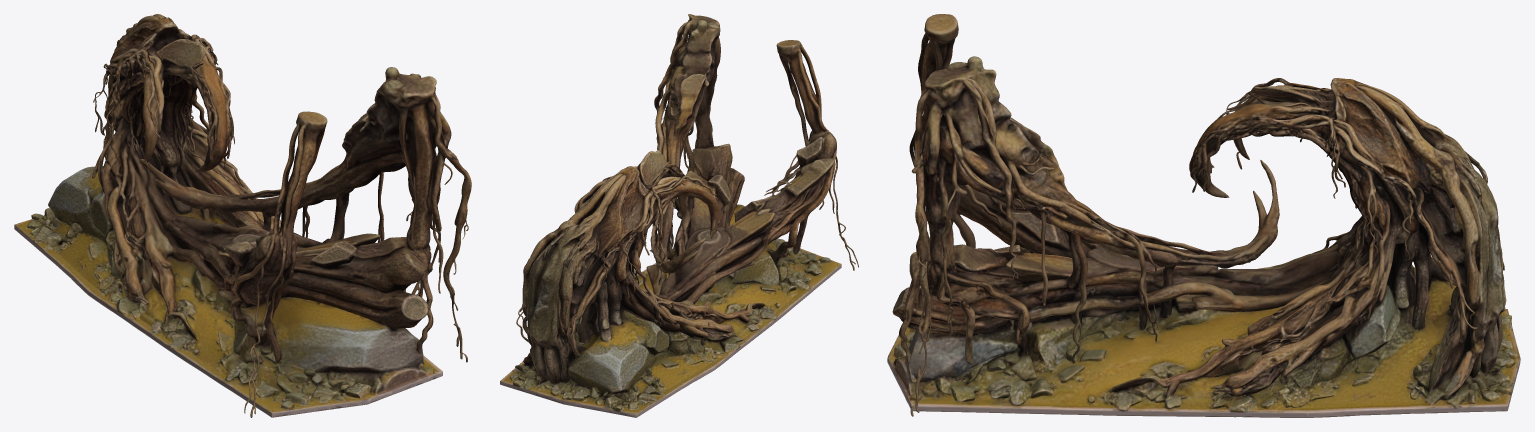
File: hemnui2-v2.glb
3 renders of one model, left to right at view 1: azimuth 30°, elevation 25°; view 2: azimuth 150°, elevation 25°; view 3: azimuth 270°, elevation 25°, orthographic. The views are drawn at different scales.
Visible parts, largest first — view 1: tripo_node_65814846-565c-4be5-805d-95dbef846e1b; view 2: tripo_node_65814846-565c-4be5-805d-95dbef846e1b; view 3: tripo_node_65814846-565c-4be5-805d-95dbef846e1b.
Part boxes in pixels (x1,y1,x2,y2): tripo_node_65814846-565c-4be5-805d-95dbef846e1b: [14, 14, 471, 417]; tripo_node_65814846-565c-4be5-805d-95dbef846e1b: [500, 14, 858, 417]; tripo_node_65814846-565c-4be5-805d-95dbef846e1b: [887, 14, 1520, 417].
Bounding box in the file's own units: 0.4754 × 0.5819 × 0.9802.
1 material, 1 textured.
